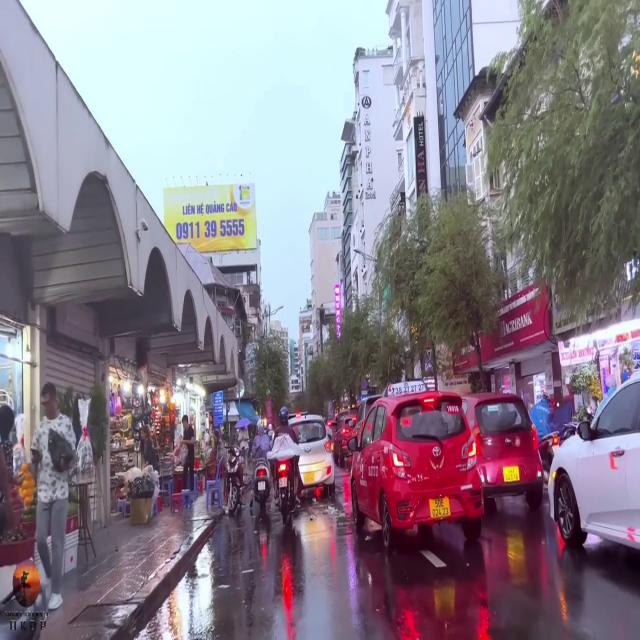bien_vang: (427, 493, 454, 525), (502, 461, 522, 488)
